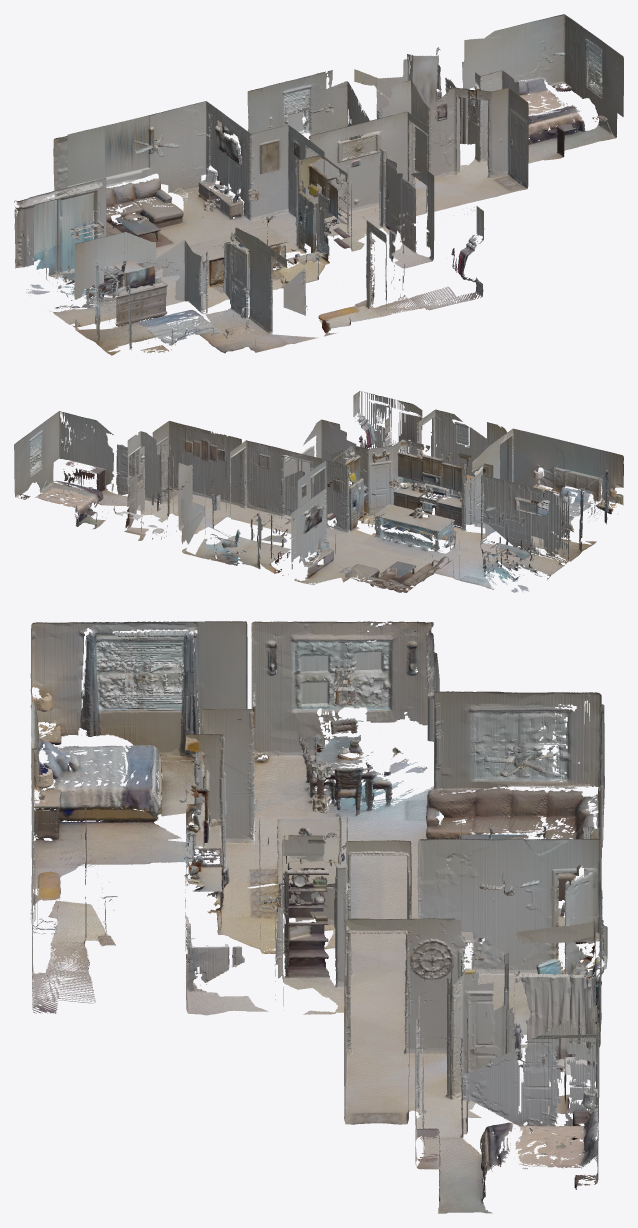
Rendered from goatcore_nfv.glb.
3 views of the same model, one above another, from view 1: azimuth 30°, elevation 25°; view 2: azimuth 150°, elevation 25°; view 3: azimuth 270°, elevation 25° (orthographic). The views are drawn at different scales.
Visible parts, largest first — view 1: world; view 2: world; view 3: world.
Part boxes in pixels (<box>): world: <box>14,14,623,355</box>; world: <box>14,391,623,592</box>; world: <box>30,621,607,1213</box>.
Bounding box in the file's own units: 20.24 × 3.01 × 10.64.
